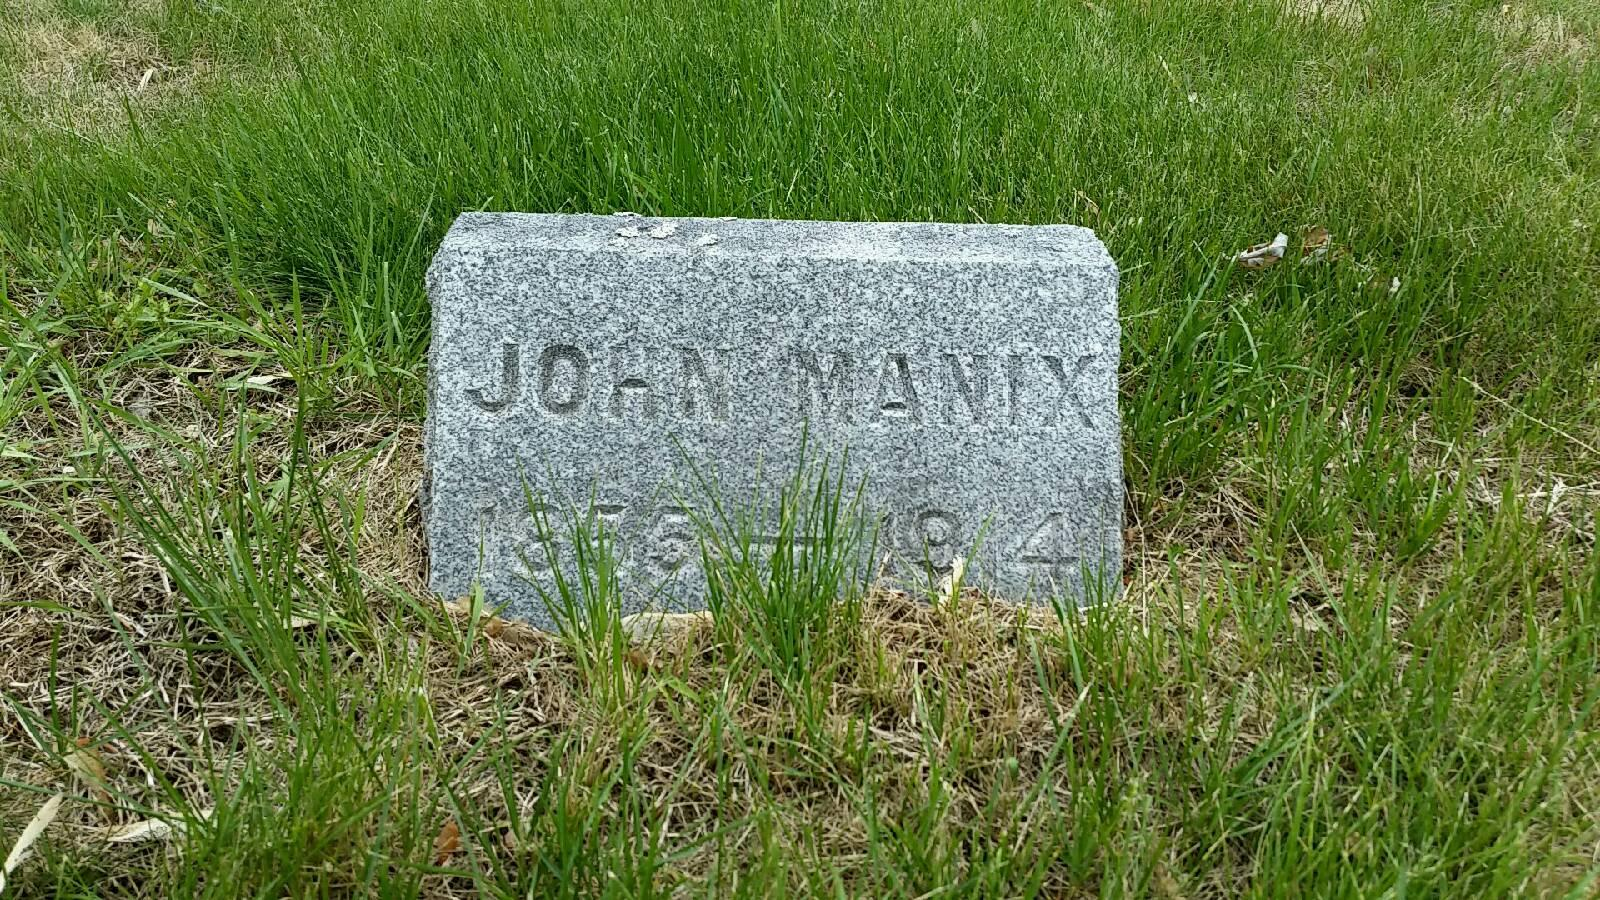slant: (432, 208, 1124, 615)
